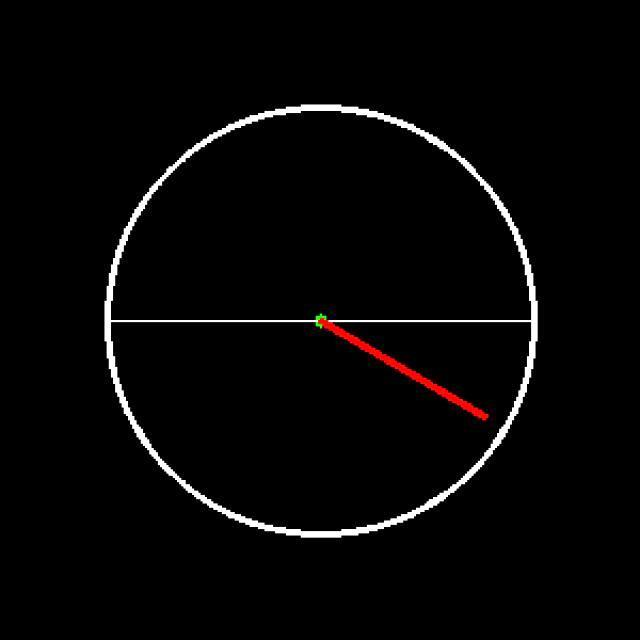Needle_Tip: (459, 392, 500, 438)
Needle_base: (284, 298, 357, 360)
